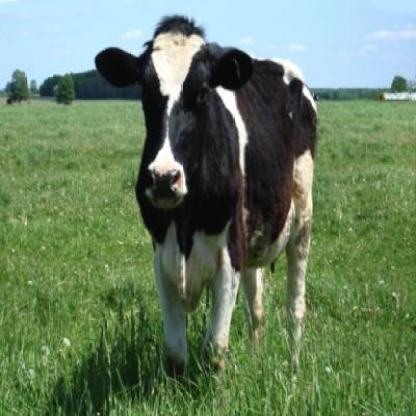lower: (156, 203, 179, 209)
mouth: (143, 159, 186, 210)
upper: (160, 173, 166, 190)
